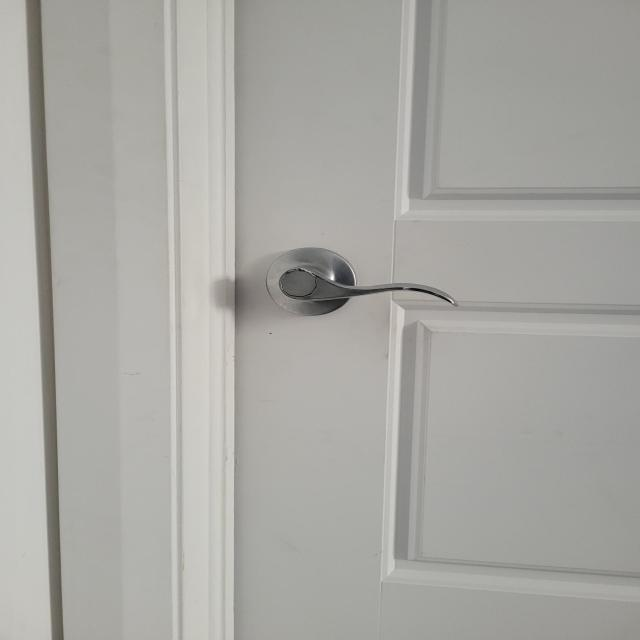door-handle: (267, 248, 457, 315)
